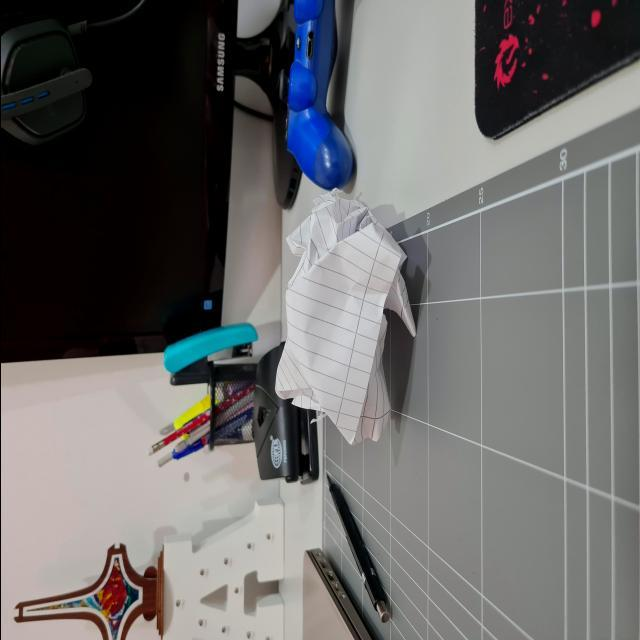Paper: (214, 191, 472, 441)
